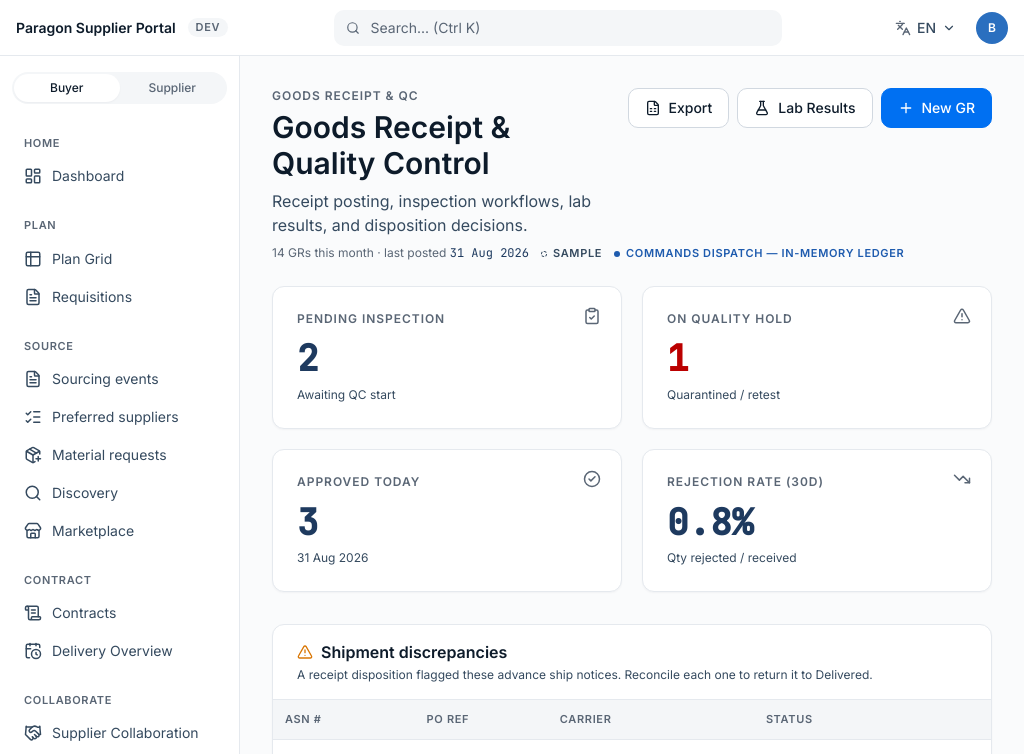
Scenario: BuyerGoodsReceipt — CP-3 · E4, the enforcement ledger reaches the gate › ⚠️ THE SHIPPED LEDGER STILL STOPS THE STEP — the delta at the page is zero
Expected: the text "Rejection Rate (30d)" is shown, [667, 474, 824, 489]
Click the button "New GR".
click(936, 108)  # box [880, 88, 992, 128]
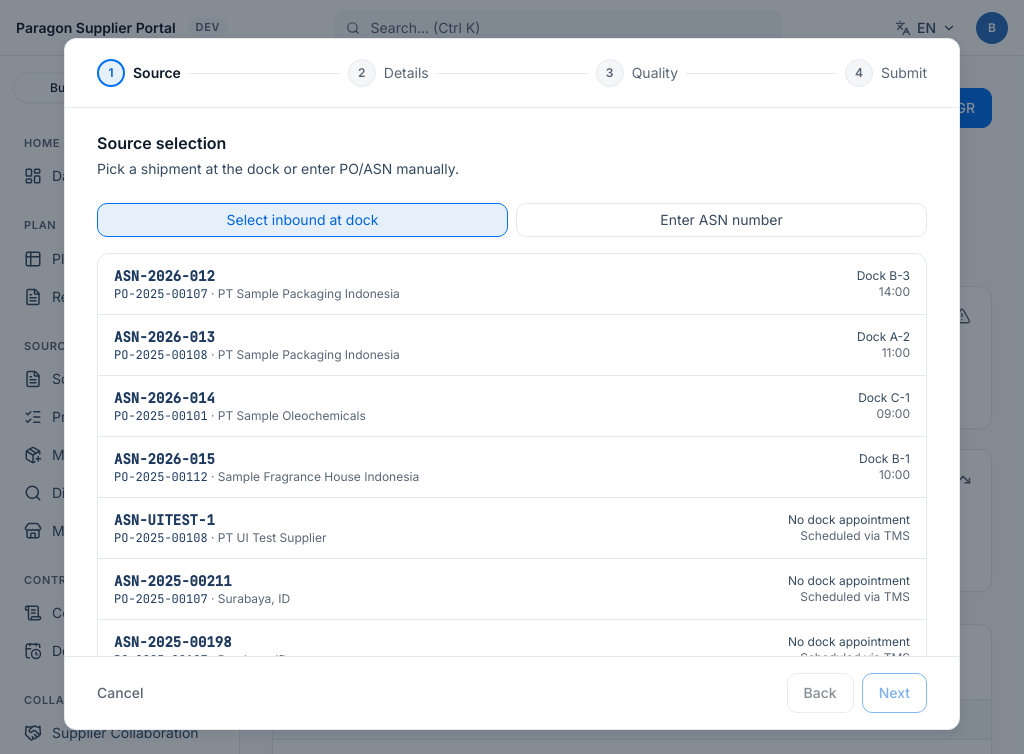
Click the text "ASN-UITEST-1".
click(164, 520)  # box [114, 511, 215, 529]
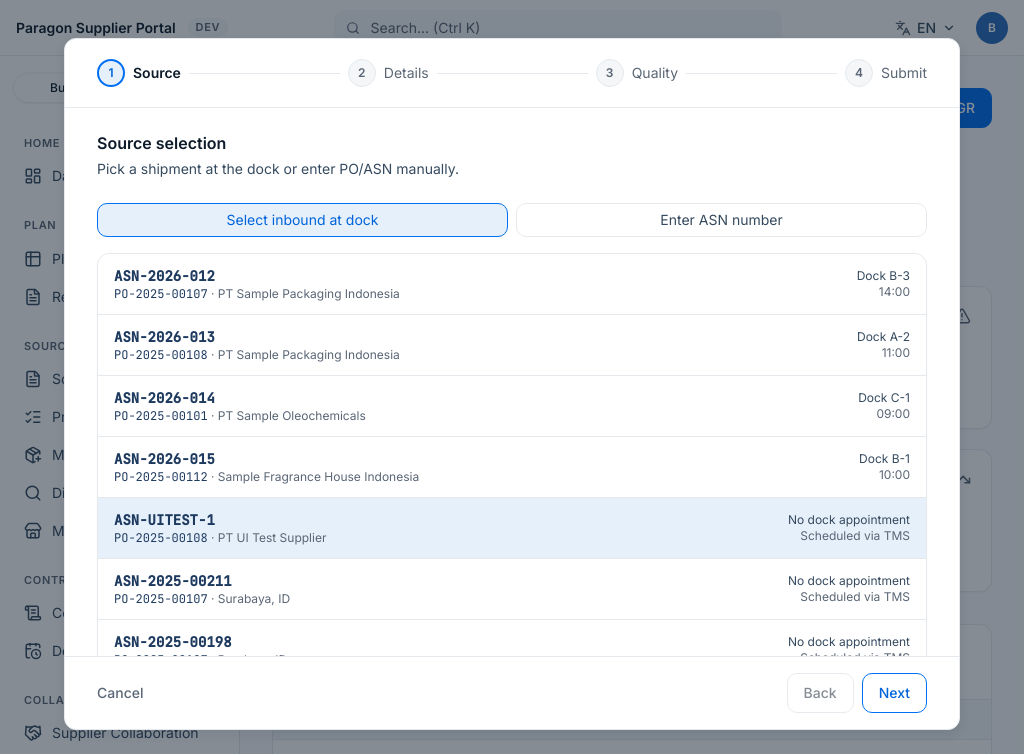
Click the button "Next".
click(894, 693)  # box [862, 673, 927, 713]
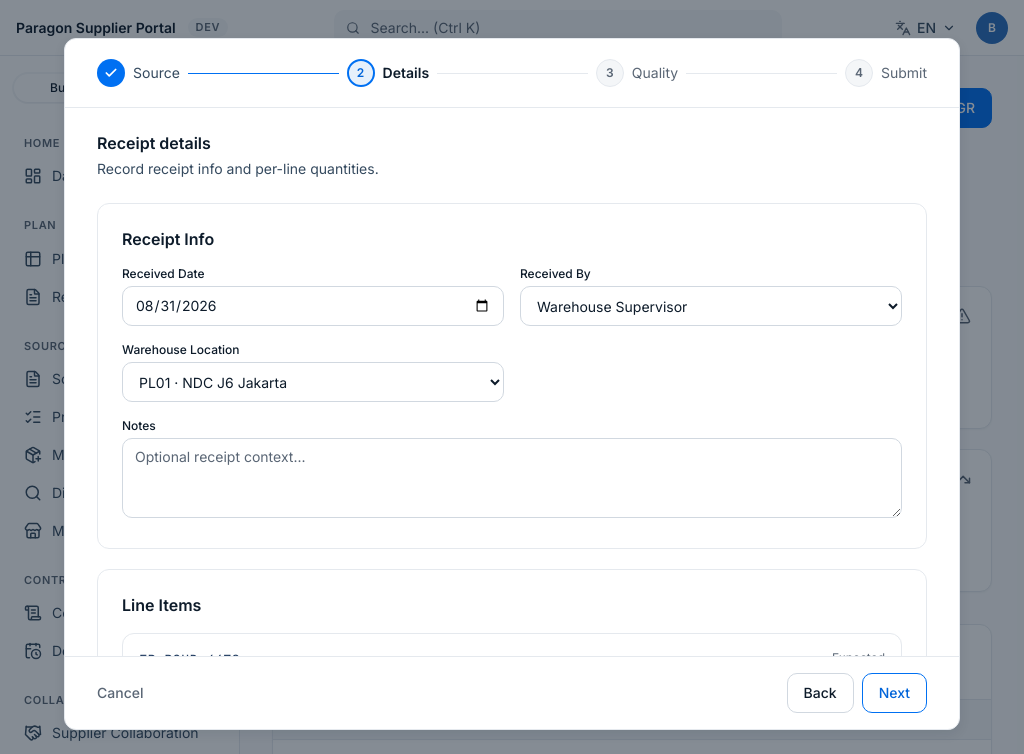
Click the button "Next".
click(894, 693)  # box [862, 673, 927, 713]
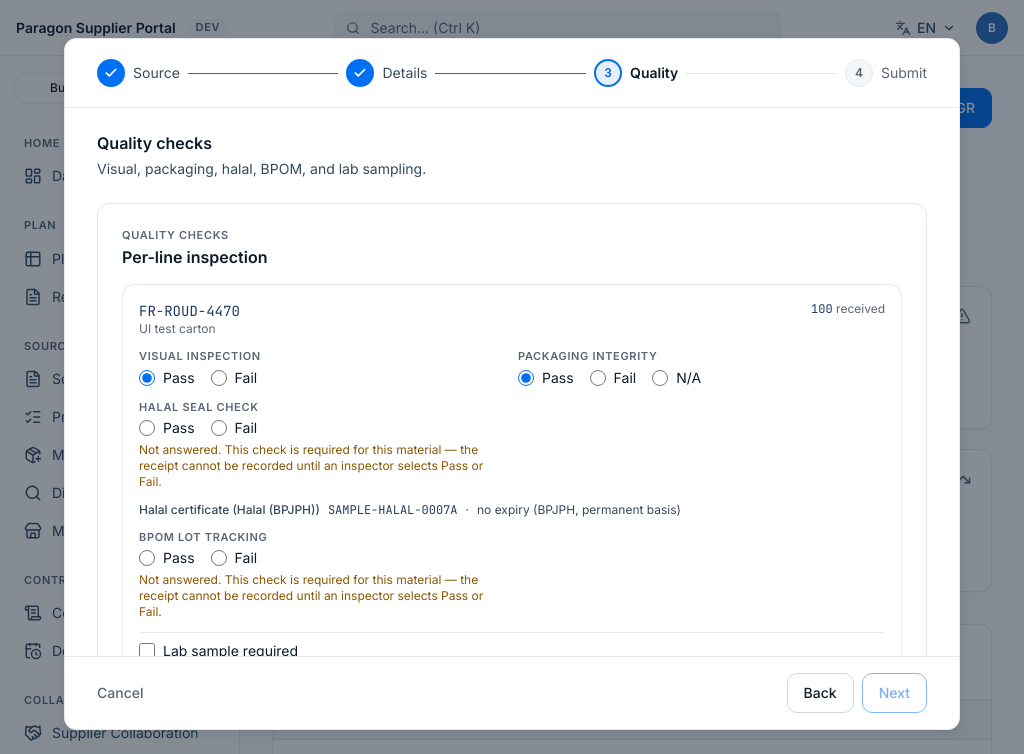
Expected: the radio button labelled "Pass" below "Halal Seal Check" is not checked, [139, 420, 155, 436]
Expected: the button "Next" is disabled, [862, 673, 927, 713]
